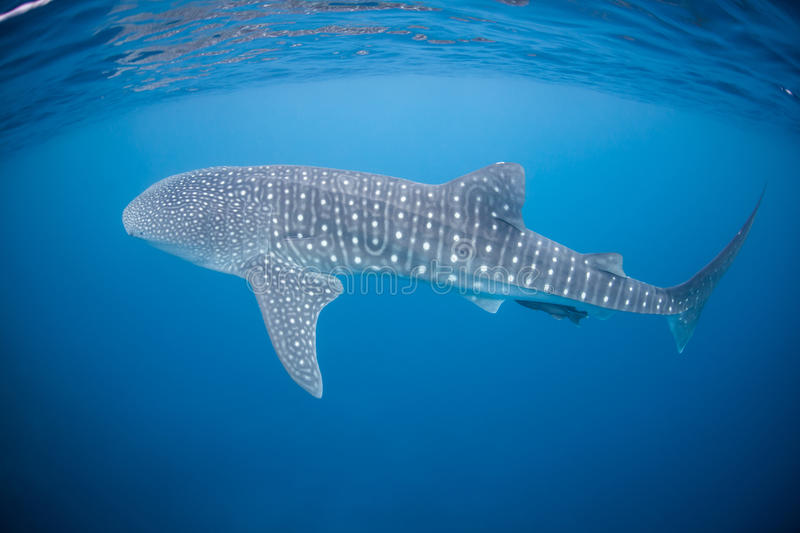shark: (109, 136, 774, 407)
